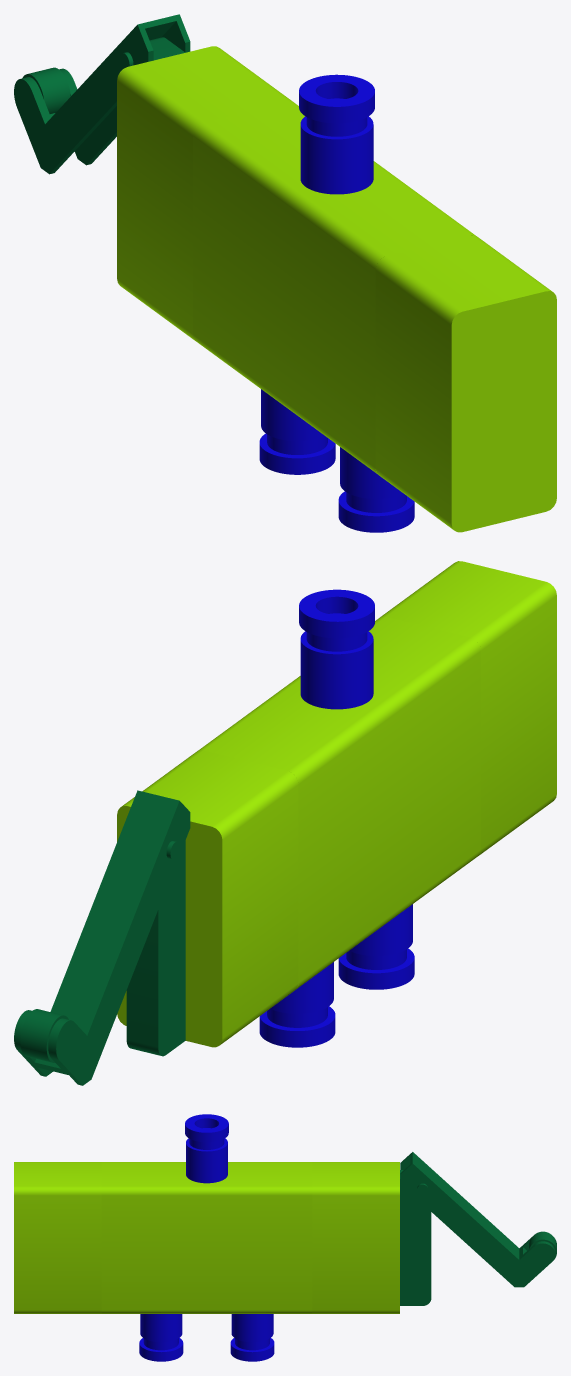
File: ValveE.fbx
The picture shows the model from 3 angles, top to bottom: view 1: azimuth 30°, elevation 25°; view 2: azimuth 150°, elevation 25°; view 3: azimuth 270°, elevation 25°; orthographic projection. The views are drawn at different scales.
Visible parts, largest first — view 1: Body, EndStop, RacorB, RacorC, RacorA, Bearing, Support; view 2: Body, EndStop, RacorB, Support, RacorC, RacorA, Bearing; view 3: Body, EndStop, Support, RacorB, RacorC, RacorA.
Boxes of the visible parts, left/top/right/bottom form: Body: left=117, top=46, right=556, bottom=532; EndStop: left=14, top=14, right=190, bottom=174; RacorB: left=299, top=74, right=374, bottom=194; RacorC: left=259, top=389, right=335, bottom=474; RacorA: left=338, top=447, right=414, bottom=532; Bearing: left=22, top=67, right=70, bottom=113; Support: left=120, top=37, right=185, bottom=68; Body: left=117, top=561, right=556, bottom=1047; EndStop: left=14, top=790, right=190, bottom=1085; RacorB: left=299, top=589, right=374, bottom=709; Support: left=126, top=840, right=185, bottom=1056; RacorC: left=259, top=962, right=335, bottom=1047; RacorA: left=338, top=904, right=414, bottom=989; Bearing: left=20, top=1009, right=68, bottom=1062; Body: left=14, top=1162, right=399, bottom=1313; EndStop: left=400, top=1152, right=555, bottom=1287; Support: left=400, top=1170, right=431, bottom=1305; RacorB: left=185, top=1114, right=228, bottom=1183; RacorC: left=230, top=1314, right=274, bottom=1361; RacorA: left=139, top=1314, right=183, bottom=1361.
Size of the model in its own units: 0.2 by 0.72 by 1.55.
